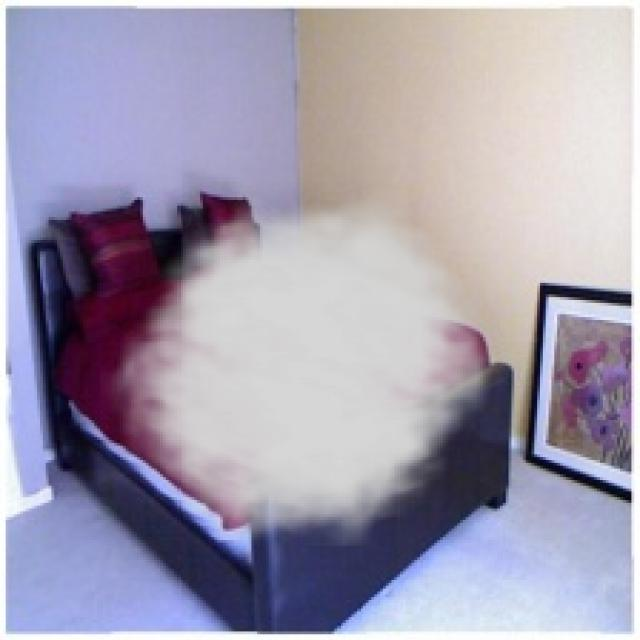smoke: (100, 183, 509, 546)
